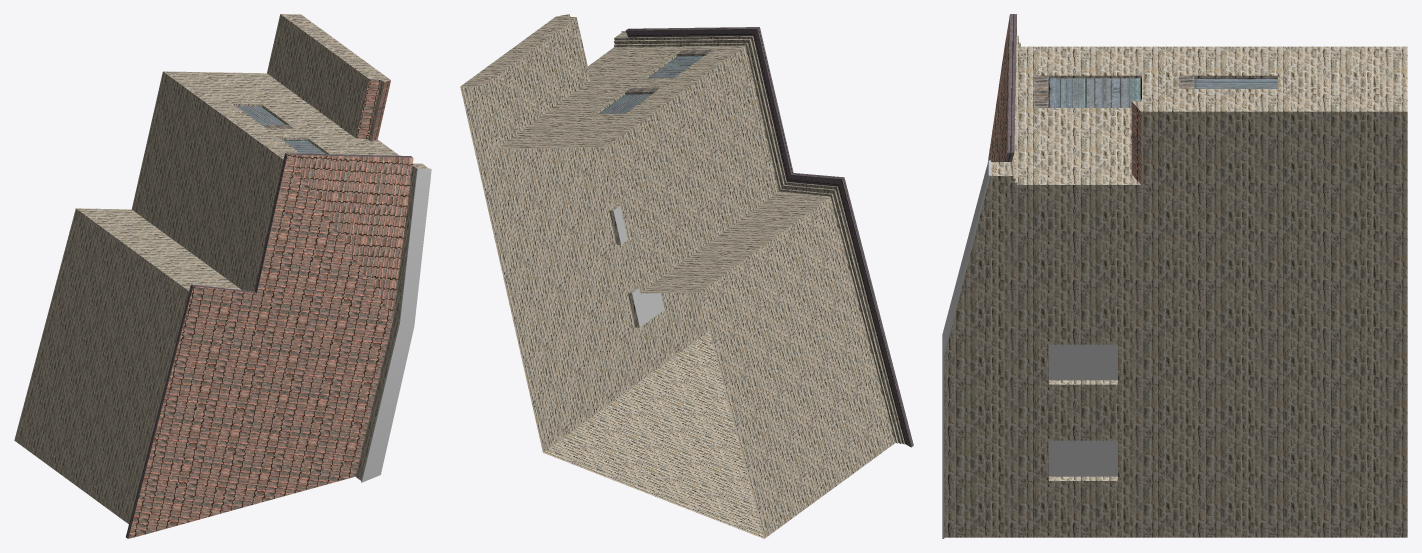
File: Pikk_64_2.obj
3 renders of one model, left to right at view 1: azimuth 30°, elevation 25°; view 2: azimuth 150°, elevation 25°; view 3: azimuth 270°, elevation 25°, orthographic. The views are drawn at different scales.
Parts seen in each view (by area): view 1: Pikk64_2; view 2: Pikk64_2; view 3: Pikk64_2.
Part boxes in pixels (left/top/right/bottom): Pikk64_2: left=14, top=14, right=431, bottom=538; Pikk64_2: left=460, top=14, right=913, bottom=538; Pikk64_2: left=942, top=14, right=1407, bottom=538.
Bounding box in the file's own units: 12.3 × 14.24 × 11.17.
